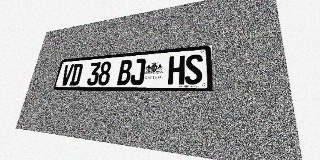3: (86, 62, 101, 85)
8: (97, 61, 112, 85)
B: (117, 59, 133, 85)
D: (69, 63, 83, 86)
H: (168, 55, 185, 85)
J: (130, 58, 146, 85)
S: (185, 54, 203, 84)
V: (60, 64, 74, 86)
